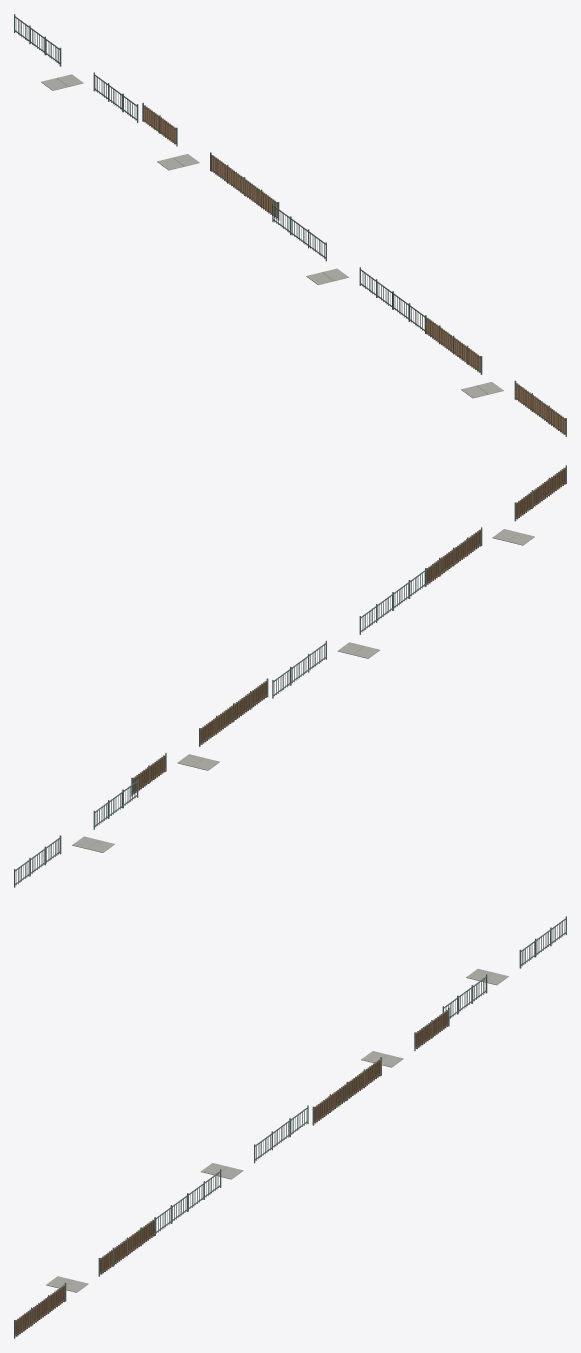
The model's file is district_0_-1.glb.
3 renders of one model, top to bottom at view 1: azimuth 30°, elevation 25°; view 2: azimuth 150°, elevation 25°; view 3: azimuth 330°, elevation 25°, orthographic.
Visible parts, largest first — view 1: CityFence, CityWood, CityPaving; view 2: CityFence, CityWood, CityPaving; view 3: CityFence, CityWood, CityPaving.
Part boxes in pixels (box(x1,y1,x2,y2)): CityFence: box(14, 14, 566, 436); CityWood: box(143, 105, 565, 434); CityPaving: box(41, 74, 503, 398); CityFence: box(14, 465, 566, 887); CityWood: box(133, 468, 565, 794); CityPaving: box(72, 529, 534, 852); CityFence: box(14, 916, 566, 1338); CityWood: box(15, 1010, 448, 1336); CityPaving: box(46, 968, 508, 1292).
Size of the model in its own units: 2.65 by 1.24 by 67.44.
